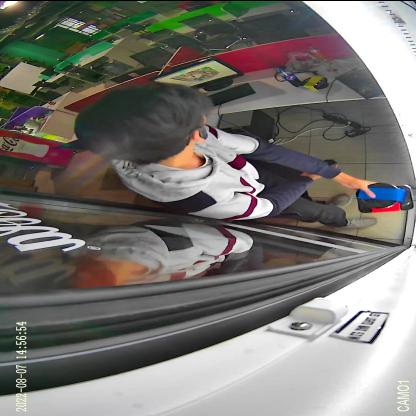blue: (356, 182, 406, 208)
red: (356, 183, 414, 212)
